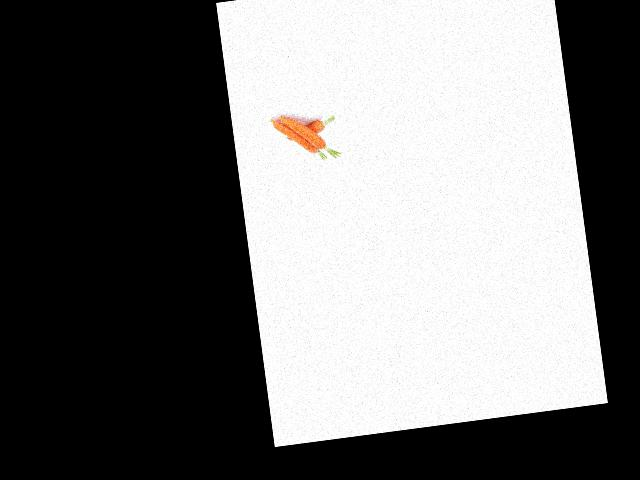carrot: (279, 117, 334, 144)
